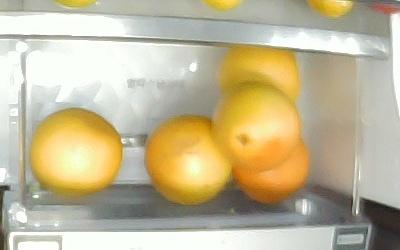grapefruit: (28, 106, 123, 194), (143, 112, 233, 204), (209, 80, 300, 170), (231, 132, 309, 203), (216, 44, 300, 102)
